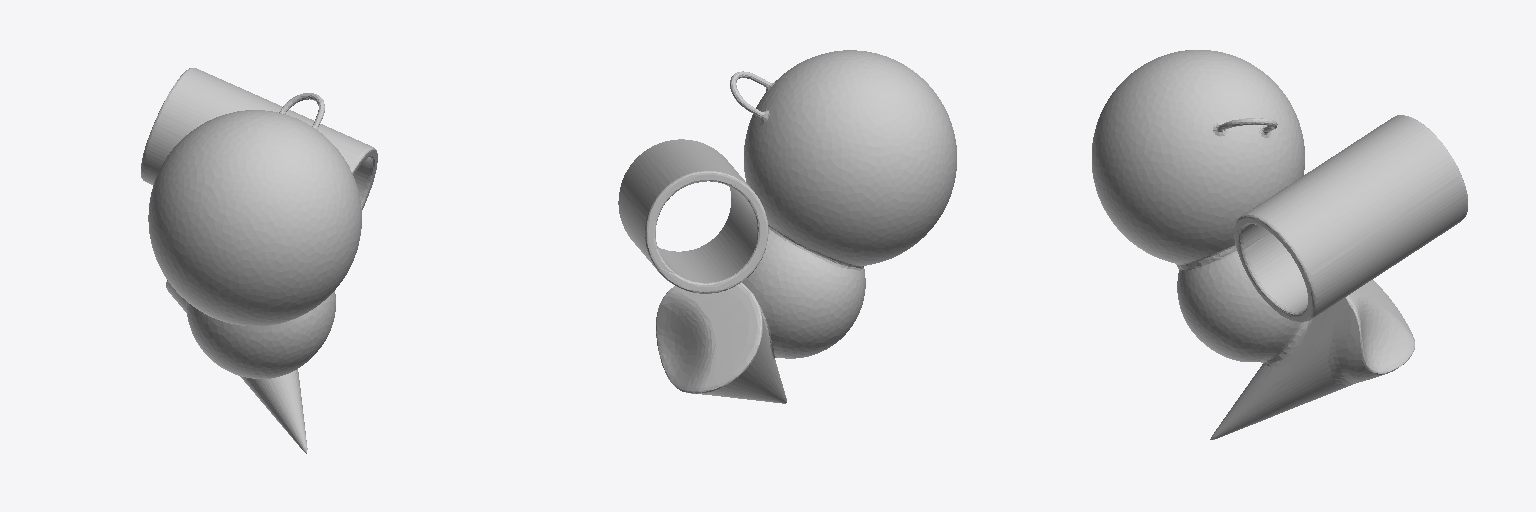
The model's file is SkulpturAbstrakt.OBJ.
The picture shows the model from 3 angles: view 1: azimuth 30°, elevation 25°; view 2: azimuth 150°, elevation 25°; view 3: azimuth 270°, elevation 25°; orthographic projection.
Parts seen in each view (by area): view 1: ZBrushPolyMesh3D; view 2: ZBrushPolyMesh3D; view 3: ZBrushPolyMesh3D.
Part boxes in pixels (x1,y1,x2,y2): ZBrushPolyMesh3D: (141,68,377,453); ZBrushPolyMesh3D: (618,50,956,403); ZBrushPolyMesh3D: (1092,50,1467,439).
Size of the model in its own units: 3.99 by 5.01 by 4.85.